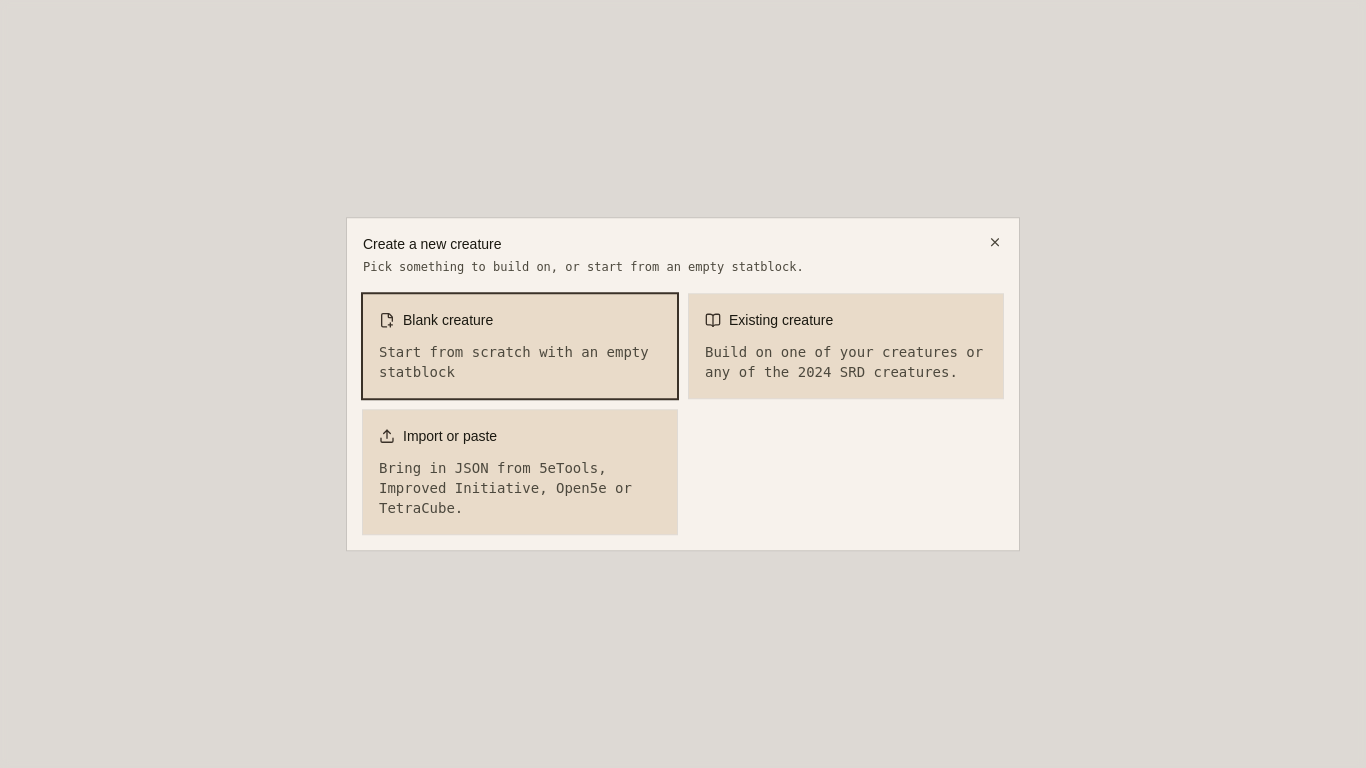
NewCreatureDialog › swaps the options for the SRD picker, and back again
Step 1. Click the button "Existing creature" → point(846, 346), box top-left (689, 294), bottom-right (1003, 398)
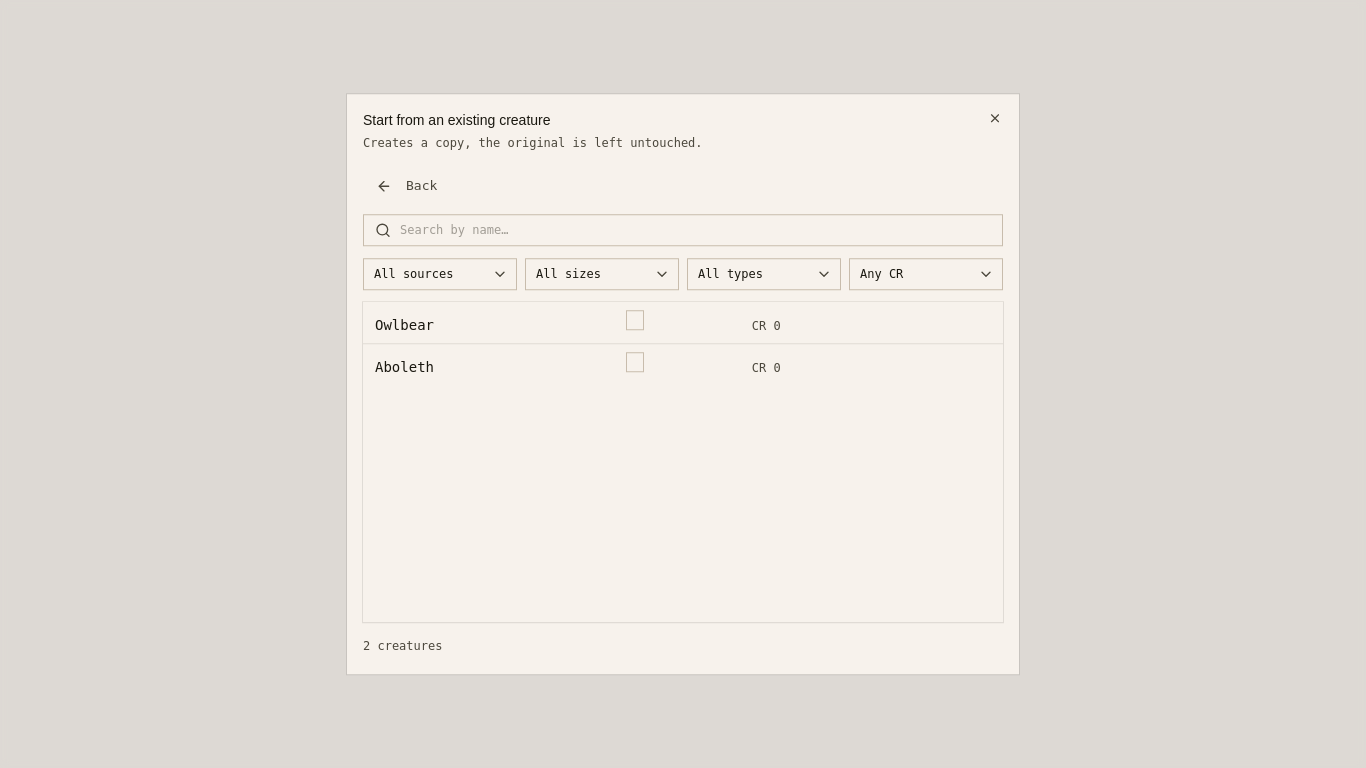
Now the search field is shown, box top-left (363, 214), bottom-right (1003, 246)
Now the button "Blank creature" is gone
Step 2. Click the button "Back" → point(407, 186), box top-left (363, 170), bottom-right (450, 202)
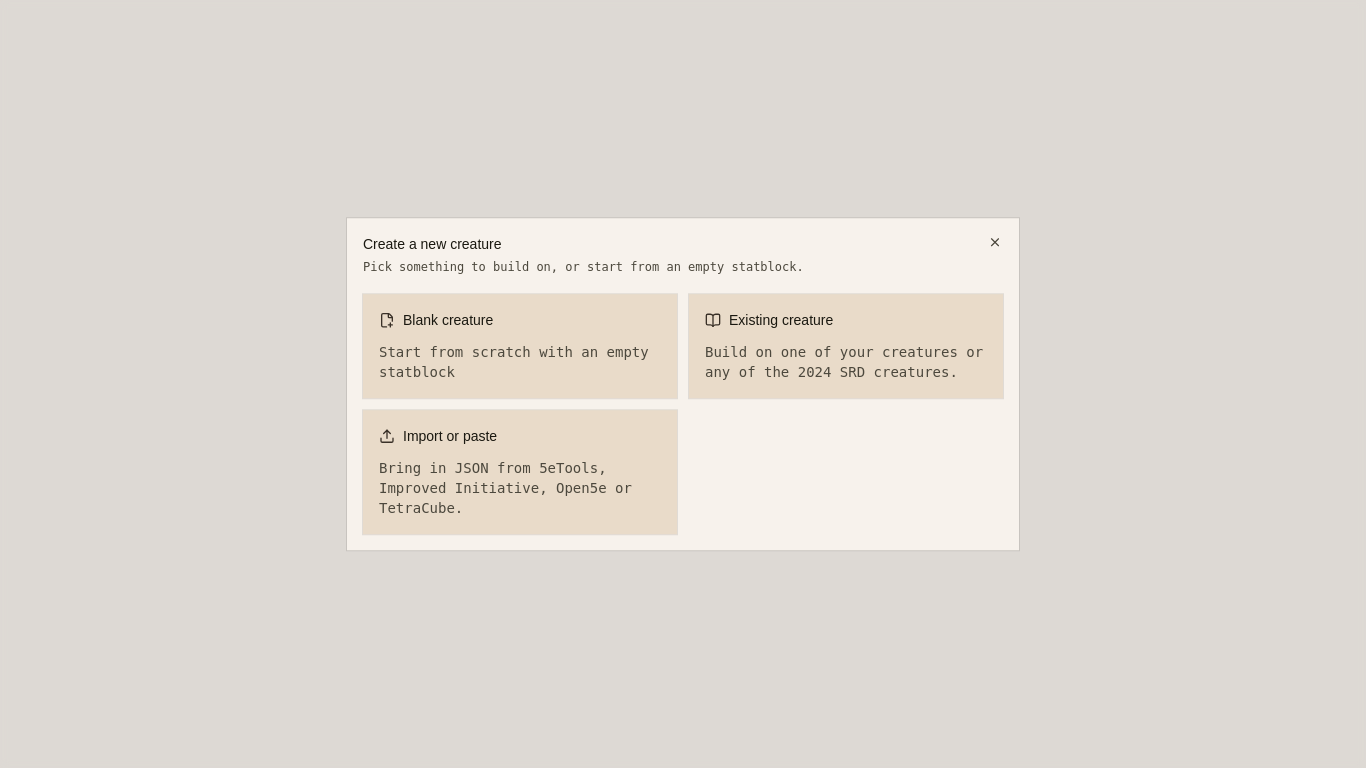
Now the button "Blank creature Start from scratch with an empty statblock" is shown, box top-left (363, 294), bottom-right (677, 398)
